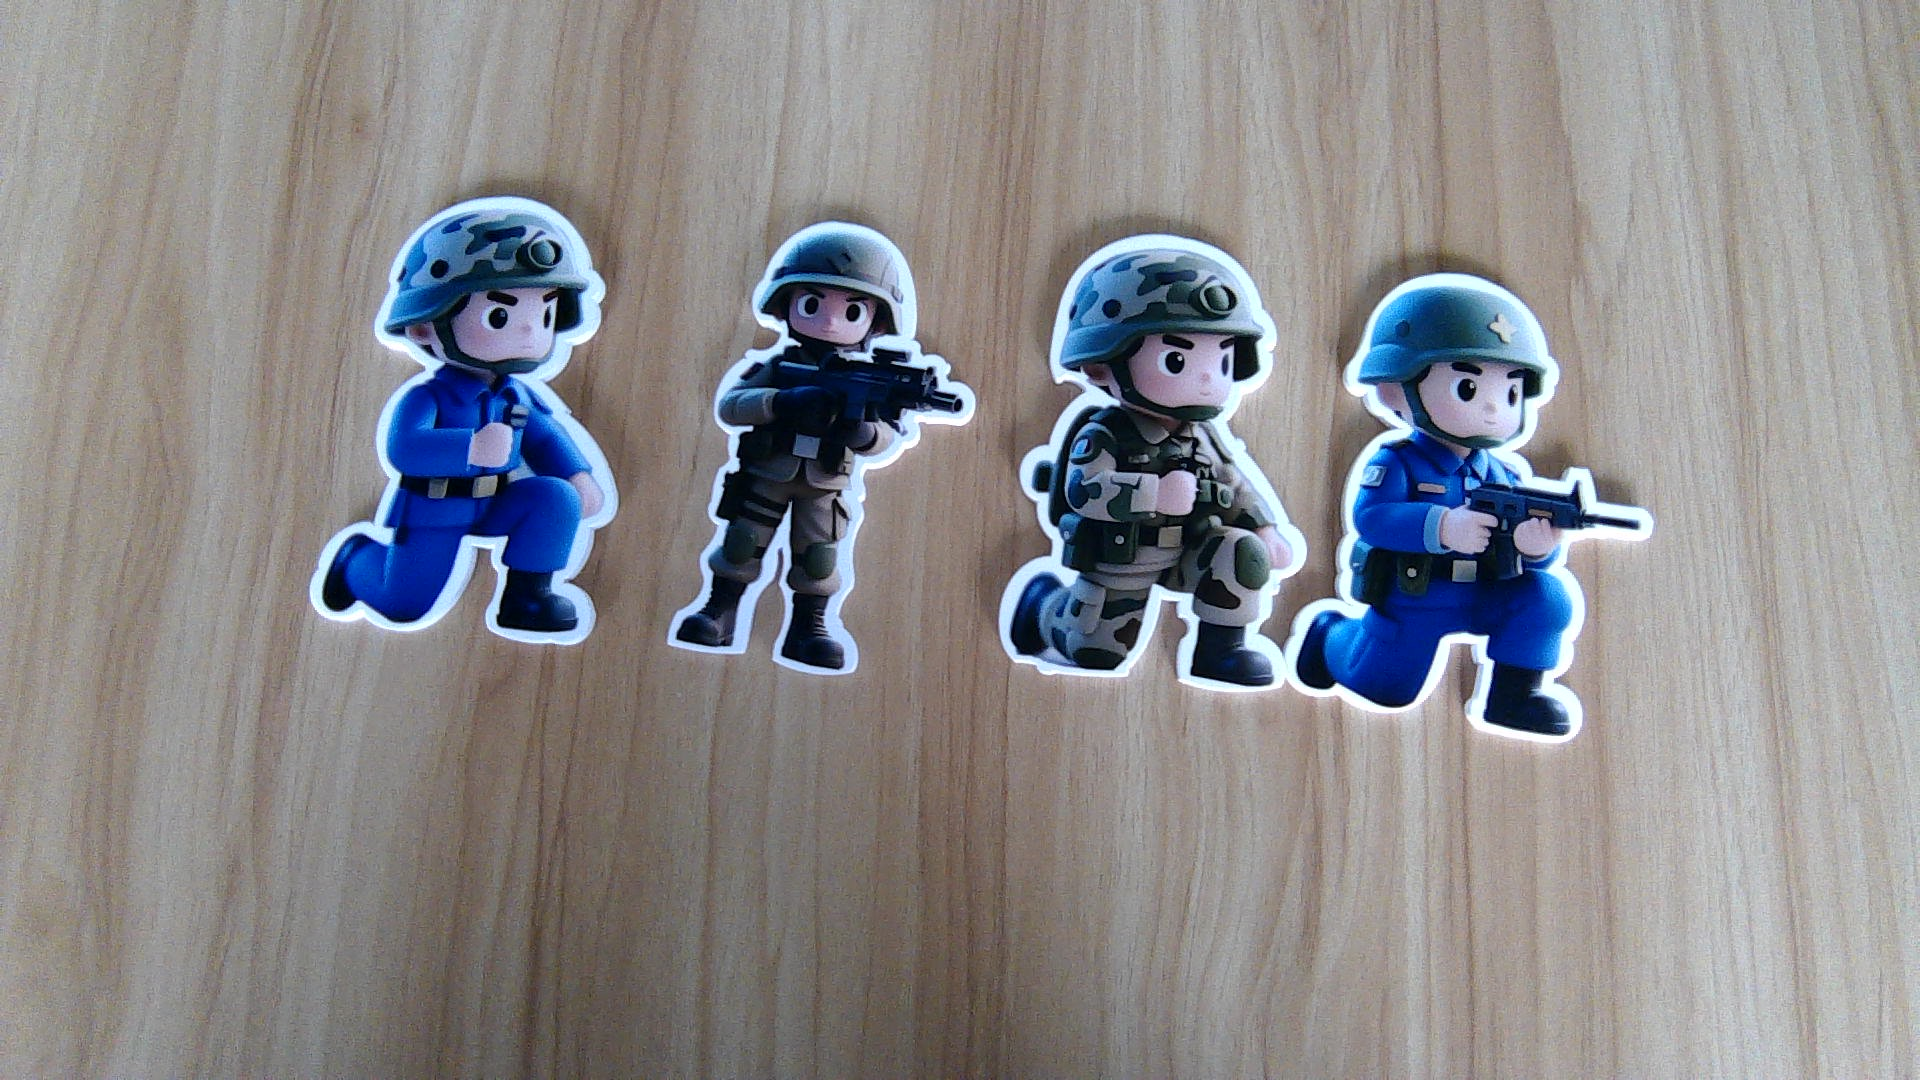友军: (665, 351, 968, 673), (998, 417, 1298, 696)
敌人2: (1292, 447, 1652, 738), (299, 372, 615, 645)
